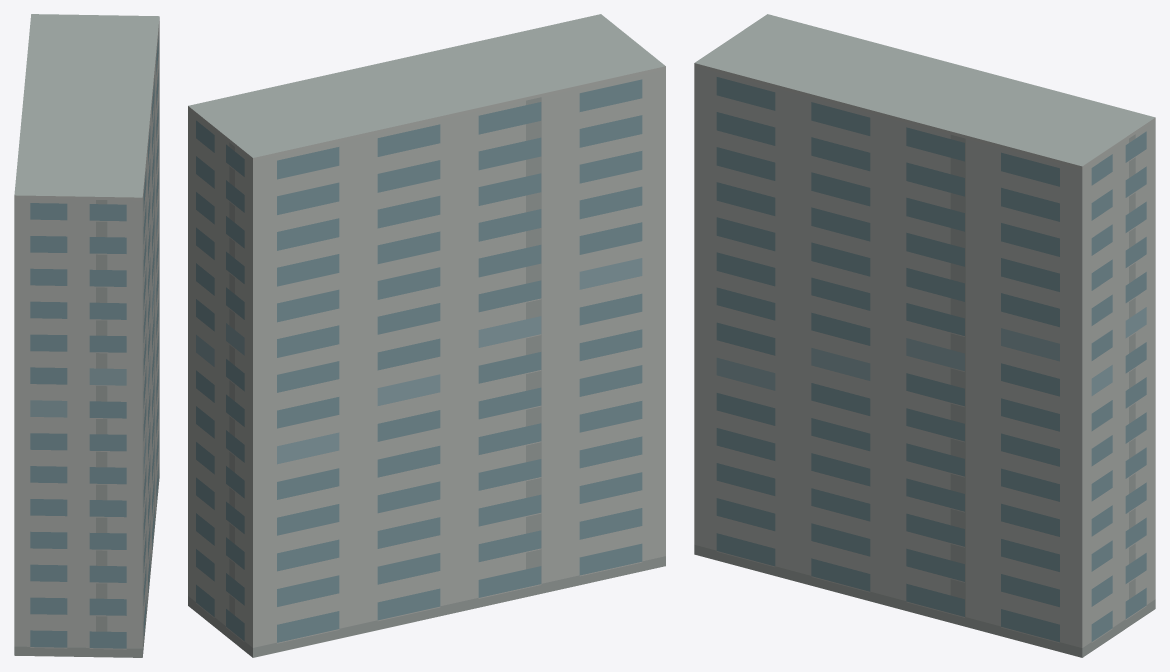
File: residential-88075f61-0a98-4c3b-adbd-f486cd4fa0d0.glb
The picture shows the model from 3 angles, left to right: view 1: azimuth 30°, elevation 25°; view 2: azimuth 150°, elevation 25°; view 3: azimuth 270°, elevation 25°; orthographic projection. The views are drawn at different scales.
Parts seen in each view (by area): view 1: residential-88075f61-0a98-4c3b-adbd-f486cd4fa0d0.tmp; view 2: residential-88075f61-0a98-4c3b-adbd-f486cd4fa0d0.tmp; view 3: residential-88075f61-0a98-4c3b-adbd-f486cd4fa0d0.tmp.
Boxes of the visible parts, x1,y1,x2,y2 form: residential-88075f61-0a98-4c3b-adbd-f486cd4fa0d0.tmp: [14, 14, 159, 657]; residential-88075f61-0a98-4c3b-adbd-f486cd4fa0d0.tmp: [188, 14, 665, 657]; residential-88075f61-0a98-4c3b-adbd-f486cd4fa0d0.tmp: [694, 14, 1155, 657].
Bounding box in the file's own units: 24.62 × 37 × 31.48.
